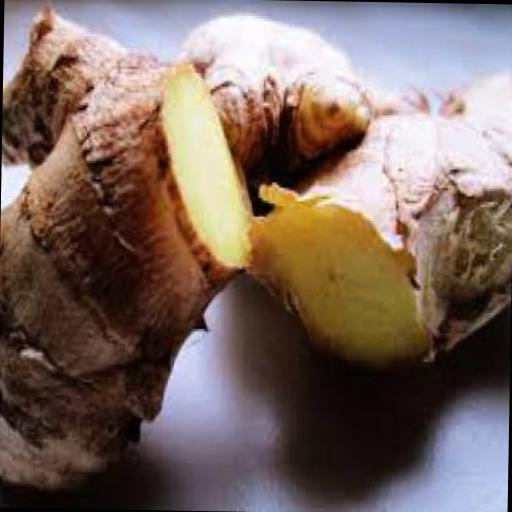biodegradable: (0, 0, 255, 493), (235, 81, 512, 366), (172, 9, 426, 200)
